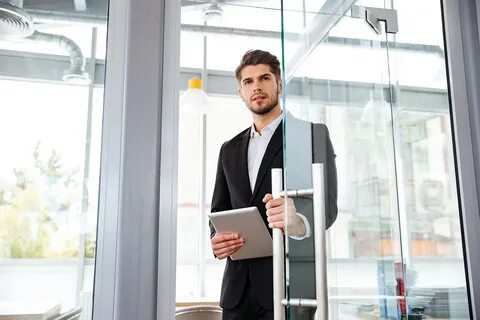awake: (208, 47, 340, 320)
